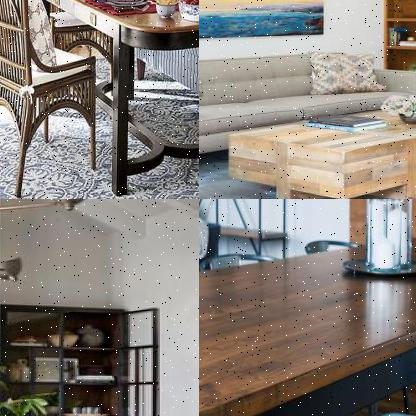table: (199, 225, 415, 415), (30, 0, 198, 198), (216, 93, 415, 198)
